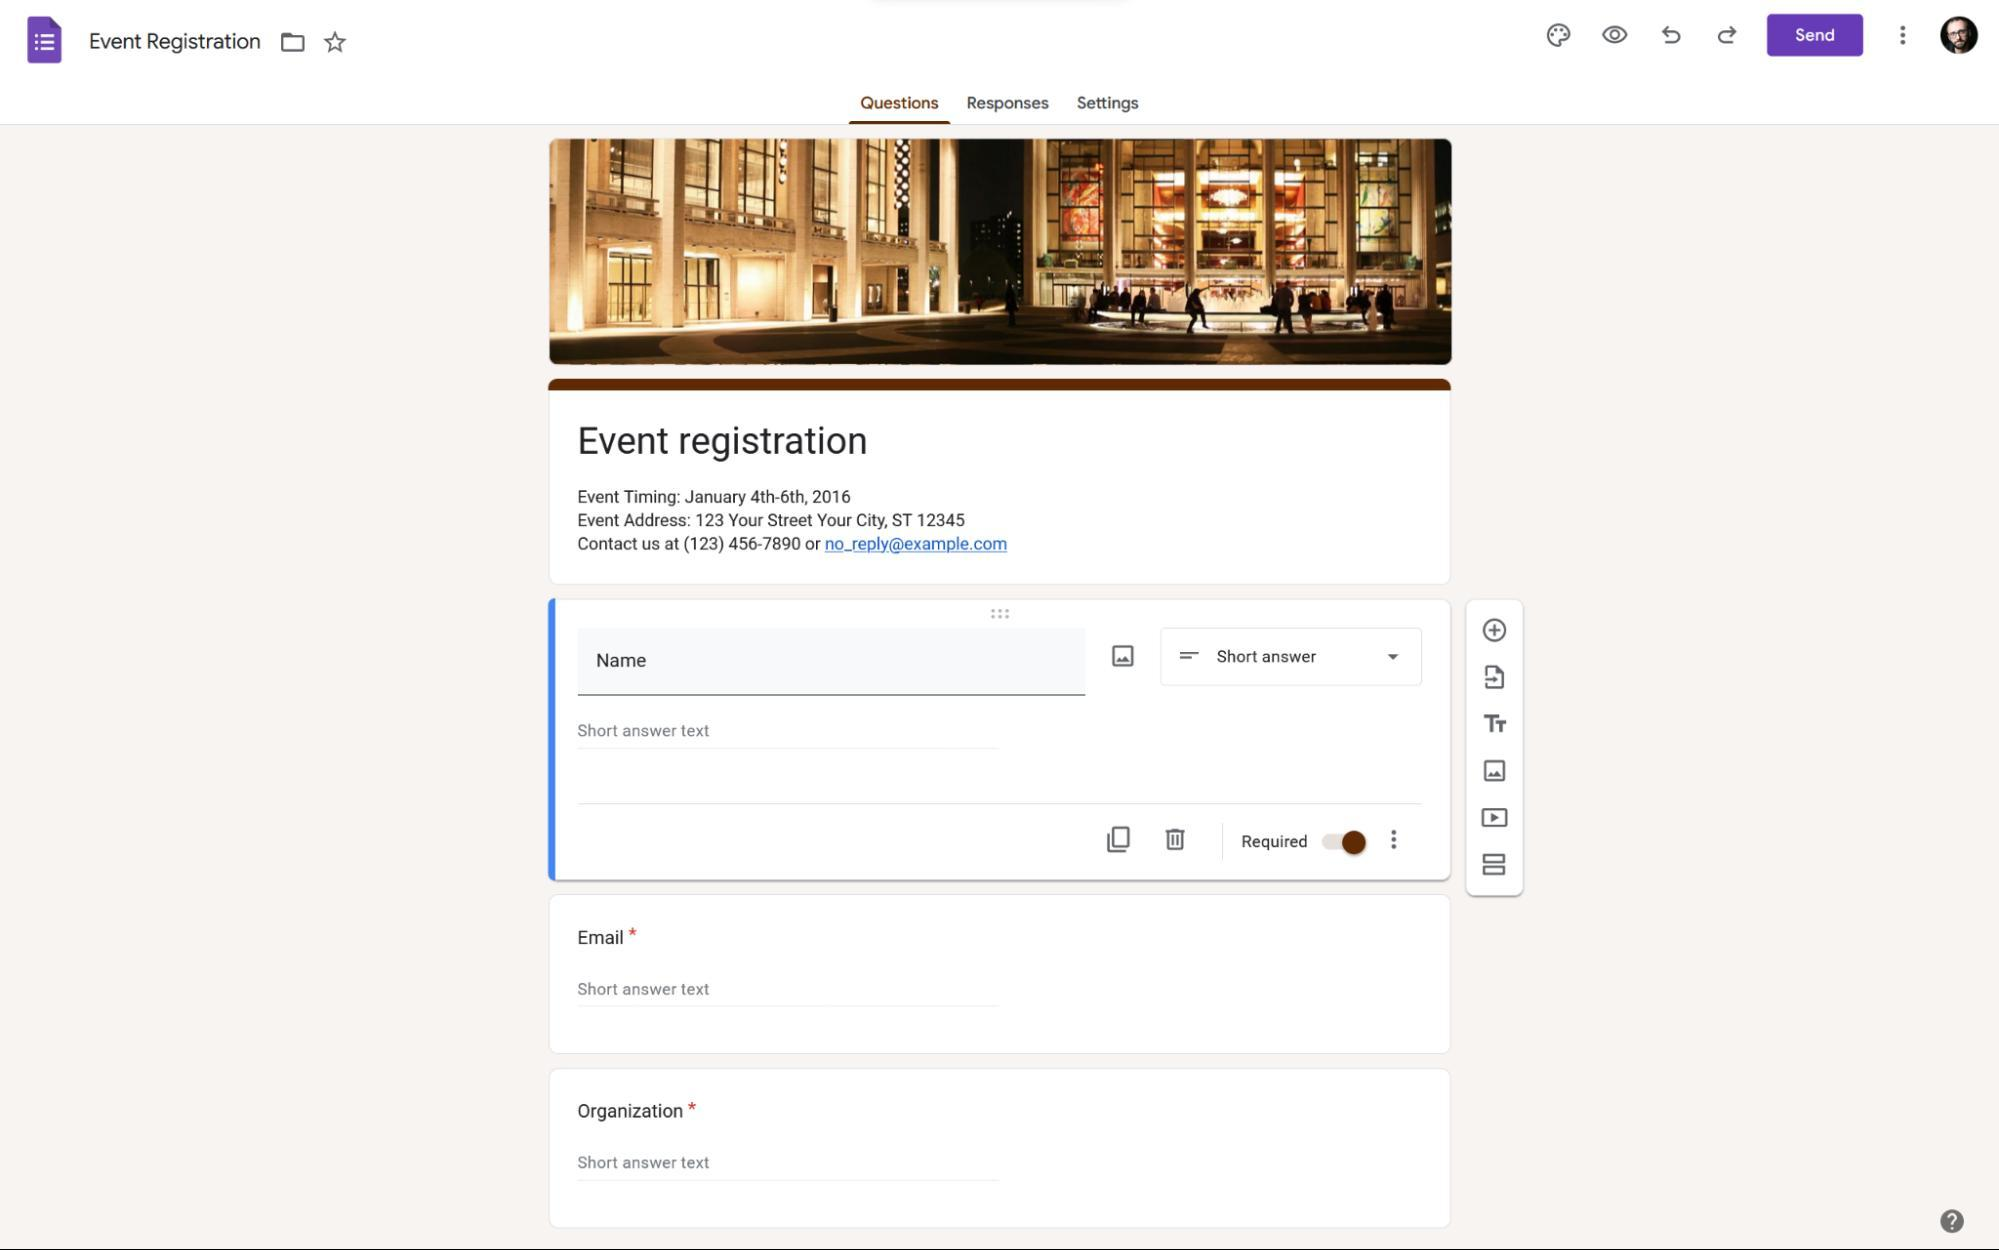dropdown: (1162, 631, 1424, 688)
icon: (1769, 17, 1865, 58), (1152, 819, 1198, 863), (1939, 17, 1985, 58), (1100, 818, 1141, 863), (1648, 14, 1689, 53), (1594, 17, 1638, 53), (1707, 19, 1748, 55), (1478, 850, 1517, 887), (1478, 756, 1515, 791), (1538, 19, 1578, 50), (1106, 639, 1144, 673), (1481, 612, 1512, 651), (1481, 710, 1517, 743), (1481, 802, 1514, 837), (1481, 661, 1512, 694), (1891, 16, 1918, 53), (1939, 1208, 1967, 1238), (277, 32, 310, 58), (1384, 824, 1406, 860), (323, 30, 351, 56)
input: (578, 634, 1087, 698)
label: (567, 1094, 701, 1130), (569, 920, 647, 956)
switch: (1321, 822, 1373, 861)
